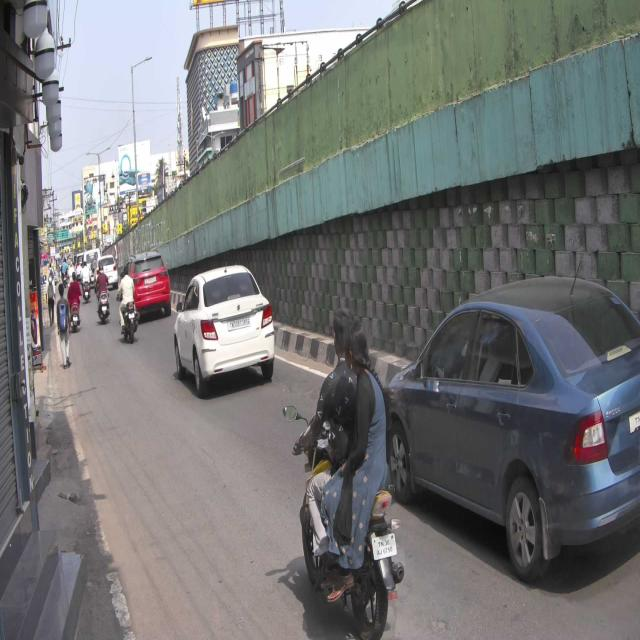double_rider: (292, 302, 406, 640)
